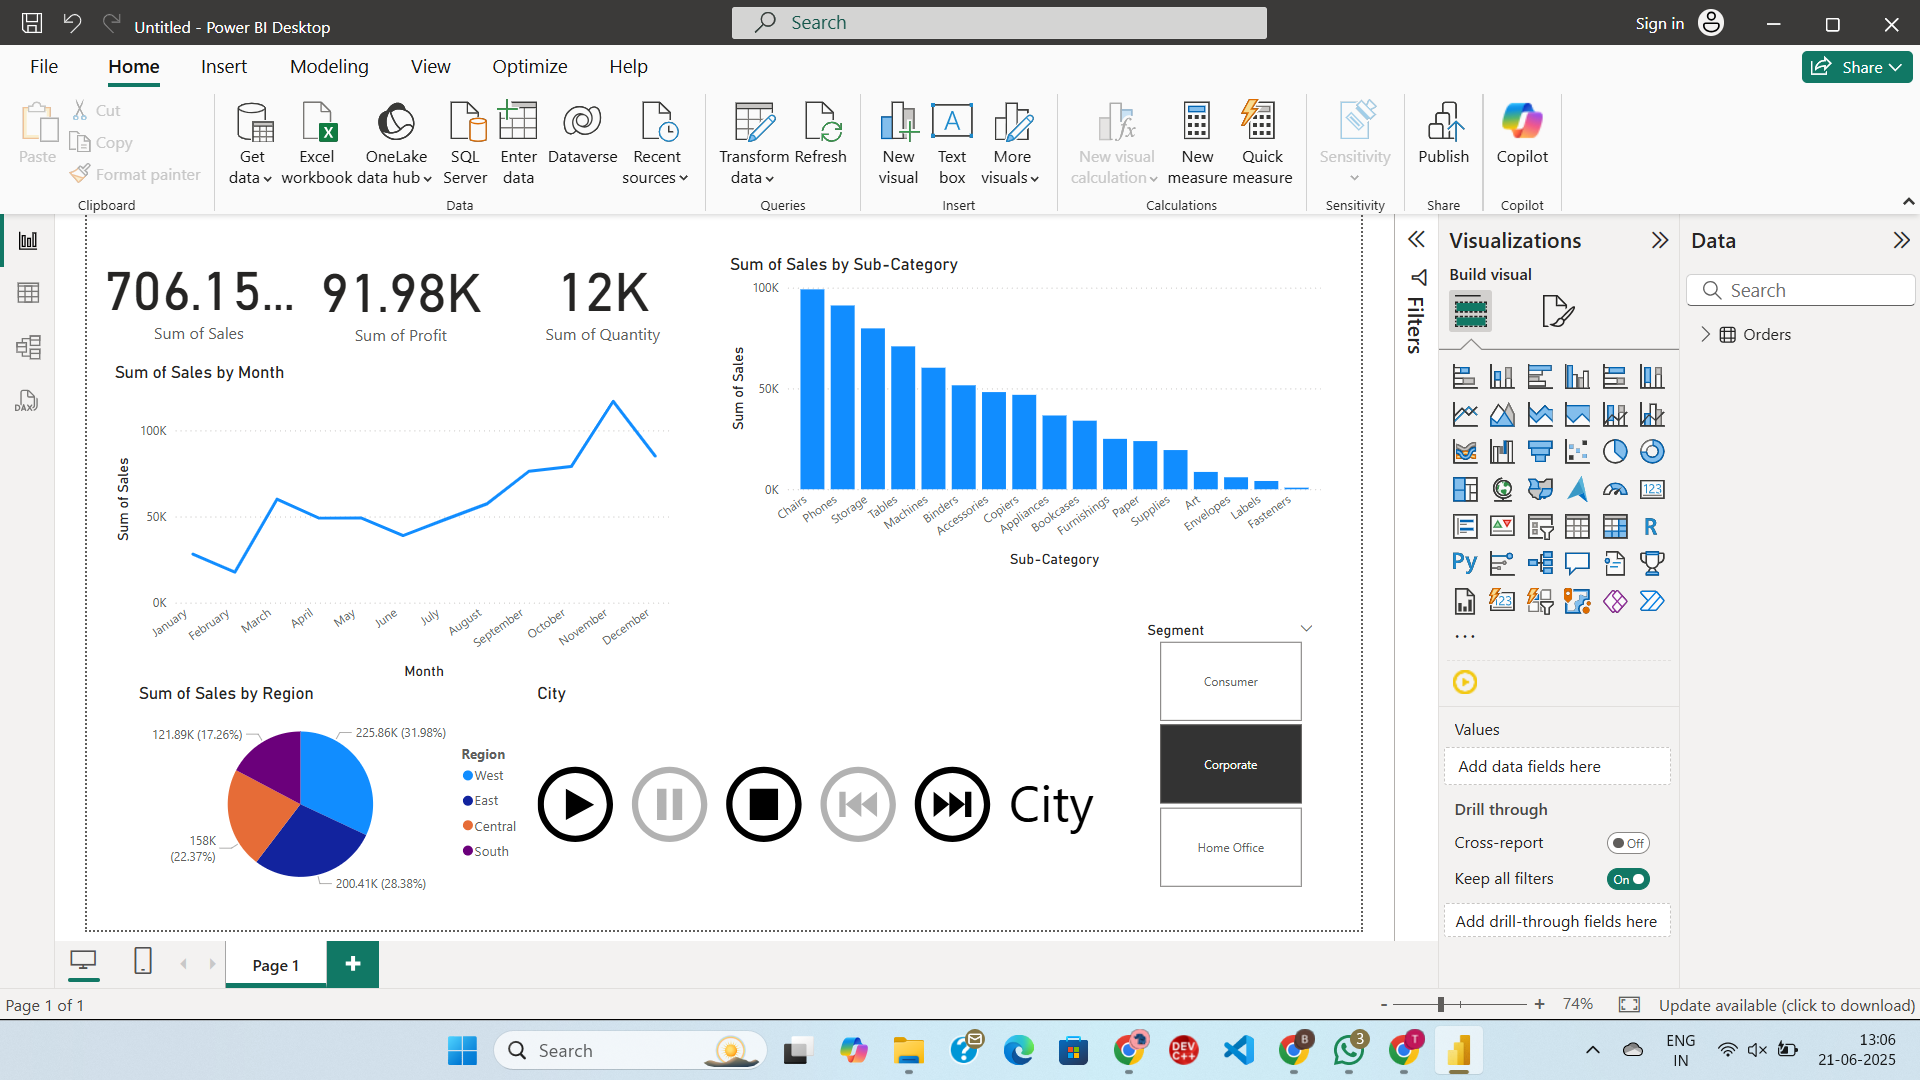

This screenshot's page, from the dashboard's own definition file:
{"tool":"powerbi","page":{"name":"Page 1","canvas":[1280,720],"ordinal":0},"visuals":[{"type":"card","fields":{"Values":["Sum(Orders.Sales)"]},"box":[10.8,12.3,202.8,136.7],"z":0},{"type":"card","fields":{"Values":["Sum(Orders.Profit)"]},"box":[213.5,7.7,202.8,149],"z":1000},{"type":"card","fields":{"Values":["Sum(Orders.Quantity)"]},"box":[416.3,6.1,202.8,150.5],"z":2000},{"type":"lineChart","fields":{"Category":["Orders.Order Date.Variation.Date Hierarchy.Month"],"Y":["Sum(Orders.Sales)"]},"box":[23,149,569.9,322.6],"z":3000},{"type":"columnChart","fields":{"Category":["Orders.Sub-Category"],"Y":["Sum(Orders.Sales)"]},"box":[640.6,39.9,603.7,319.5],"z":4000},{"type":"pieChart","fields":{"Y":["Sum(Orders.Sales)"],"Category":["Orders.Region"]},"box":[47.6,471.6,399.4,222.7],"z":5000},{"type":"slicer","fields":{"Values":["Orders.Segment"]},"box":[1052.2,404,192,278],"z":6000},{"type":"PBI_CV_16948668_E17D_454B_8664_2F2C470EA8C1","fields":{"category":["Orders.City"]},"box":[447,471.6,585.3,222.7],"z":7000}]}

Visuals, with their boxes on the page's 1280x720 design canvas (x1, y1, x2, y2). These are canvas units, not pixel positions in the 1920x1080 screenshot, which may show the page scaled, cropped or inside an application window:
card - Sum(Orders.Sales): BBox(11, 12, 214, 149)
card - Sum(Orders.Profit): BBox(214, 8, 416, 157)
card - Sum(Orders.Quantity): BBox(416, 6, 619, 157)
lineChart - Orders.Order Date.Variation.Date Hierarchy.Month x Sum(Orders.Sales): BBox(23, 149, 593, 472)
columnChart - Orders.Sub-Category x Sum(Orders.Sales): BBox(641, 40, 1244, 359)
pieChart - Sum(Orders.Sales) x Orders.Region: BBox(48, 472, 447, 694)
slicer - Orders.Segment: BBox(1052, 404, 1244, 682)
PBI_CV_16948668_E17D_454B_8664_2F2C470EA8C1 - Orders.City: BBox(447, 472, 1032, 694)
